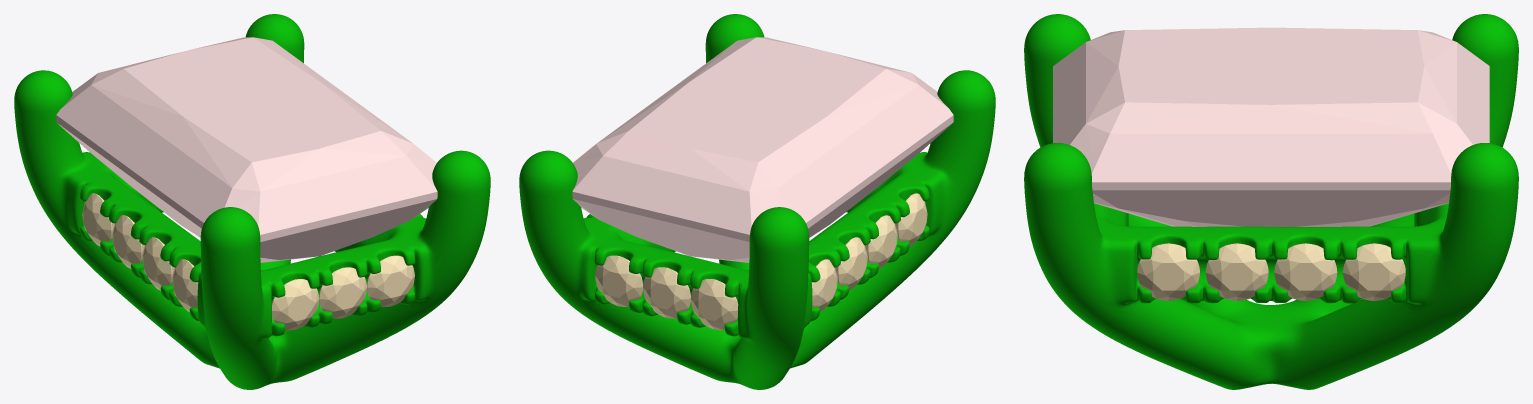
3 views of the same model, side by side, from view 1: azimuth 30°, elevation 25°; view 2: azimuth 150°, elevation 25°; view 3: azimuth 270°, elevation 25° (orthographic). The views are drawn at different scales.
Visible parts, largest first — view 1: Diamond_Radiant, Metal01, Diamond_Round.012, Diamond_Round.011, Diamond_Round.013, Diamond_Round.001, Diamond_Round.003, Diamond_Round, Diamond_Round.002; view 2: Diamond_Radiant, Metal01, Diamond_Round.010, Diamond_Round.008, Diamond_Round.009, Diamond_Round.003, Diamond_Round.001, Diamond_Round.002, Diamond_Round; view 3: Diamond_Radiant, Metal01, Diamond_Round.005, Diamond_Round.006, Diamond_Round.004, Diamond_Round.007.
Boxes of the visible parts, x1=… form: Diamond_Radiant: x1=56, y1=37, x2=437, y2=262; Metal01: x1=14, y1=14, x2=490, y2=389; Diamond_Round.012: x1=319, y1=267, x2=366, y2=318; Diamond_Round.011: x1=367, y1=255, x2=414, y2=306; Diamond_Round.013: x1=272, y1=279, x2=319, y2=330; Diamond_Round.001: x1=112, y1=215, x2=144, y2=268; Diamond_Round.003: x1=142, y1=237, x2=174, y2=290; Diamond_Round: x1=82, y1=193, x2=114, y2=246; Diamond_Round.002: x1=172, y1=259, x2=198, y2=311; Diamond_Radiant: x1=572, y1=37, x2=953, y2=262; Metal01: x1=519, y1=14, x2=995, y2=389; Diamond_Round.010: x1=643, y1=267, x2=690, y2=318; Diamond_Round.008: x1=595, y1=255, x2=642, y2=306; Diamond_Round.009: x1=690, y1=279, x2=738, y2=330; Diamond_Round.003: x1=865, y1=215, x2=897, y2=268; Diamond_Round.001: x1=835, y1=237, x2=867, y2=290; Diamond_Round.002: x1=895, y1=193, x2=927, y2=246; Diamond_Round: x1=811, y1=259, x2=837, y2=311; Diamond_Radiant: x1=1053, y1=27, x2=1489, y2=226; Metal01: x1=1024, y1=14, x2=1518, y2=389; Diamond_Round.005: x1=1274, y1=243, x2=1337, y2=300; Diamond_Round.006: x1=1205, y1=243, x2=1268, y2=300; Diamond_Round.004: x1=1343, y1=243, x2=1405, y2=300; Diamond_Round.007: x1=1137, y1=243, x2=1199, y2=300.
Bounding box in the file's own units: 6.83 × 6.26 × 9.06.
